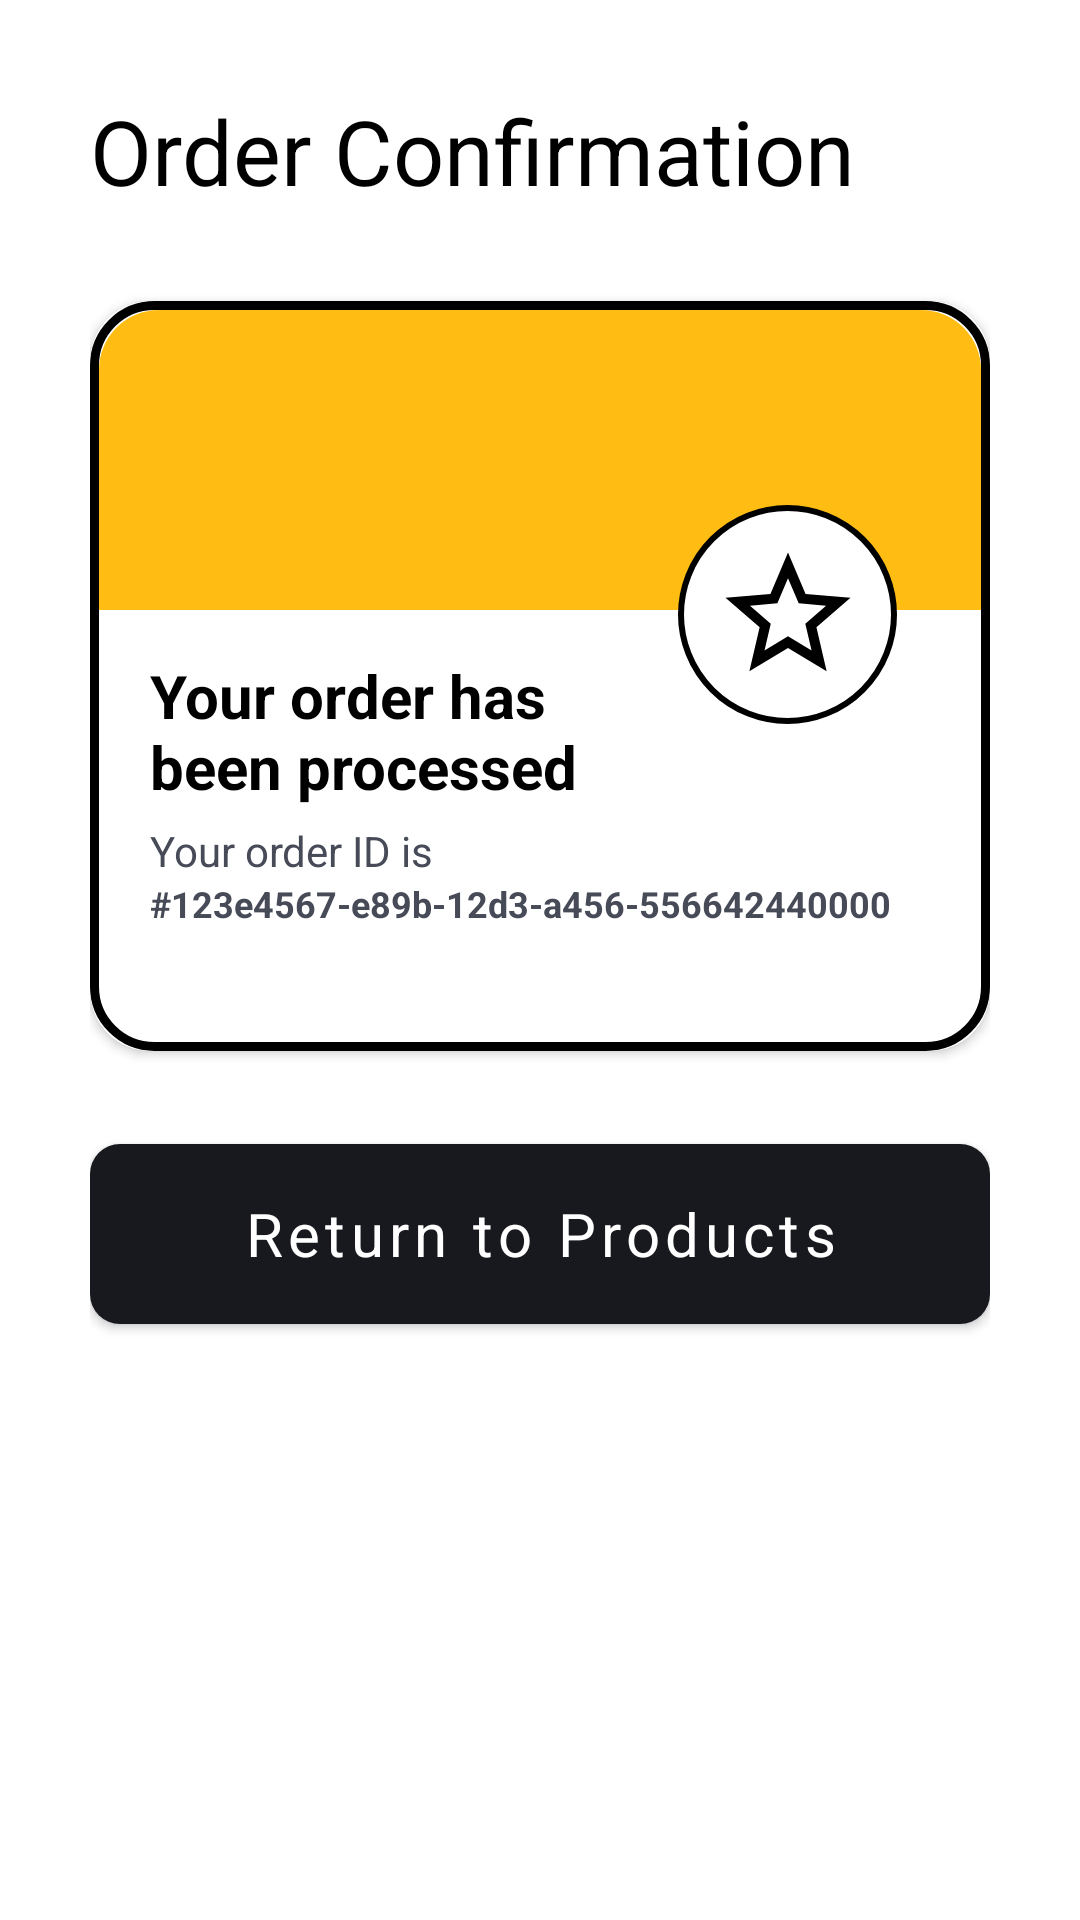

Icons on this 1080x1920 Android screen, each with the point to tap as point (x, y):
star border: point (787, 614)
